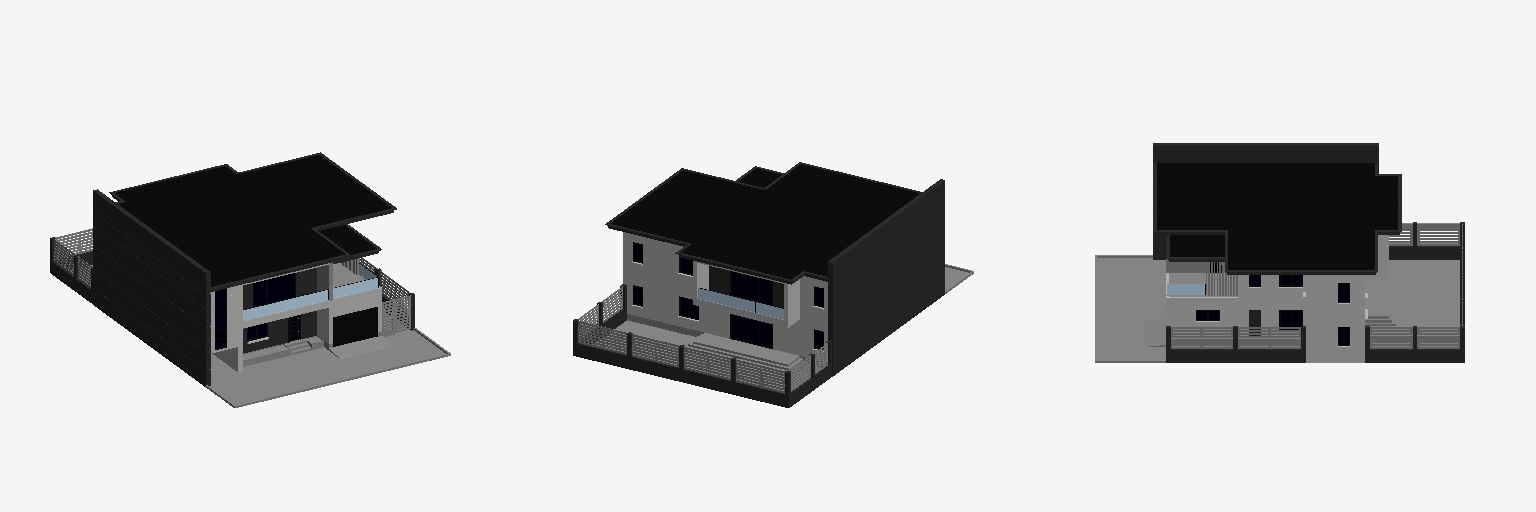
Rendered from casaV2.obj.
3 views of the same model, side by side, from view 1: azimuth 30°, elevation 25°; view 2: azimuth 150°, elevation 25°; view 3: azimuth 270°, elevation 25° (orthographic).
Parts seen in each view (by area): view 1: MH1_OBJ_05, MH1_OBJ_10, MH1_OBJ_08, MH1_OBJ_06, MH1_OBJ_11, MH1_OBJ_03, MH1_OBJ_01, MH1_OBJ_07, MH1_OBJ_02; view 2: MH1_OBJ_10, MH1_OBJ_05, MH1_OBJ_11, MH1_OBJ_07, MH1_OBJ_03, MH1_OBJ_06, MH1_OBJ_08, MH1_OBJ_01, MH1_OBJ_02; view 3: MH1_OBJ_05, MH1_OBJ_10, MH1_OBJ_08, MH1_OBJ_07, MH1_OBJ_11, MH1_OBJ_03, MH1_OBJ_02, MH1_OBJ_01.
Boxes of the visible parts, x1=… form: MH1_OBJ_05: x1=109, y1=152, x2=396, y2=291; MH1_OBJ_10: x1=93, y1=189, x2=381, y2=386; MH1_OBJ_08: x1=70, y1=265, x2=450, y2=407; MH1_OBJ_06: x1=253, y1=273, x2=377, y2=346; MH1_OBJ_11: x1=54, y1=228, x2=410, y2=332; MH1_OBJ_03: x1=212, y1=264, x2=394, y2=366; MH1_OBJ_01: x1=243, y1=258, x2=378, y2=328; MH1_OBJ_07: x1=50, y1=237, x2=414, y2=330; MH1_OBJ_02: x1=215, y1=288, x2=267, y2=349; MH1_OBJ_10: x1=623, y1=179, x2=944, y2=376; MH1_OBJ_05: x1=605, y1=162, x2=921, y2=284; MH1_OBJ_11: x1=578, y1=286, x2=827, y2=393; MH1_OBJ_07: x1=573, y1=284, x2=831, y2=407; MH1_OBJ_03: x1=627, y1=314, x2=825, y2=373; MH1_OBJ_06: x1=730, y1=271, x2=772, y2=348; MH1_OBJ_08: x1=594, y1=264, x2=973, y2=390; MH1_OBJ_01: x1=697, y1=288, x2=783, y2=326; MH1_OBJ_02: x1=633, y1=242, x2=823, y2=349; MH1_OBJ_05: x1=1153, y1=163, x2=1401, y2=274; MH1_OBJ_10: x1=1153, y1=143, x2=1388, y2=356; MH1_OBJ_08: x1=1095, y1=255, x2=1459, y2=362; MH1_OBJ_07: x1=1166, y1=222, x2=1464, y2=362; MH1_OBJ_11: x1=1166, y1=223, x2=1462, y2=348; MH1_OBJ_03: x1=1143, y1=271, x2=1395, y2=362; MH1_OBJ_02: x1=1196, y1=275, x2=1349, y2=345; MH1_OBJ_01: x1=1166, y1=262, x2=1237, y2=295.
Size of the model in its own units: 664 by 318 by 934.